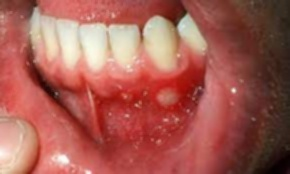Ulcer: (156, 87, 179, 108)
